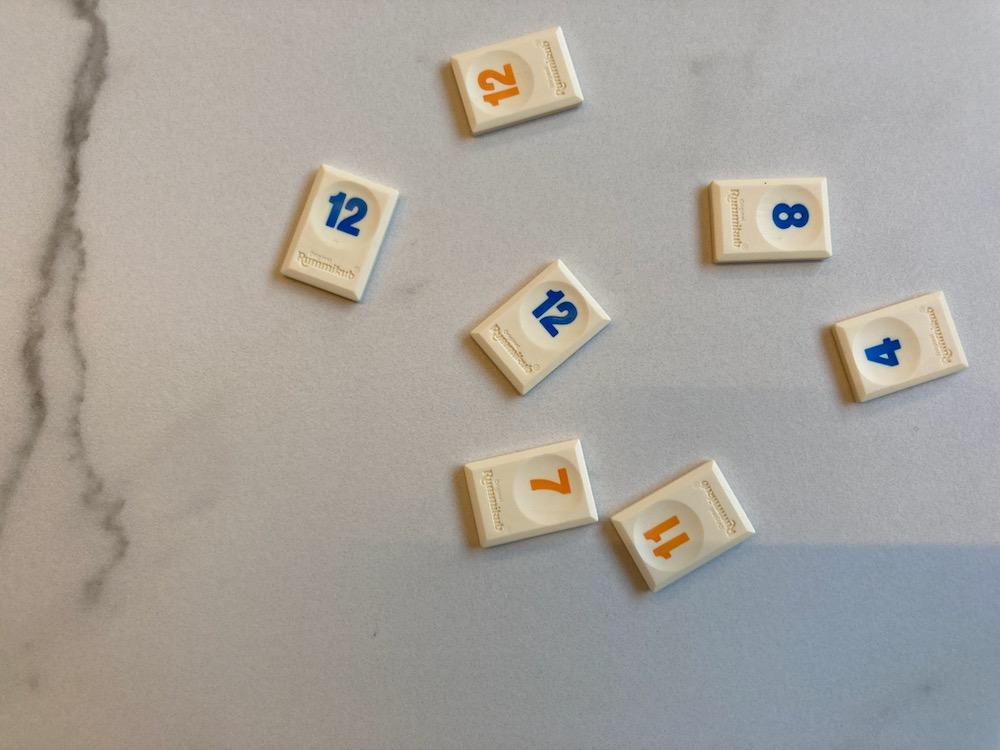blue_12: (471, 260, 609, 395), (283, 164, 398, 301)
blue_4: (832, 291, 967, 402)
blue_8: (711, 178, 832, 264)
orange_11: (611, 461, 754, 590)
orange_12: (451, 27, 584, 135)
orange_7: (465, 439, 598, 547)
